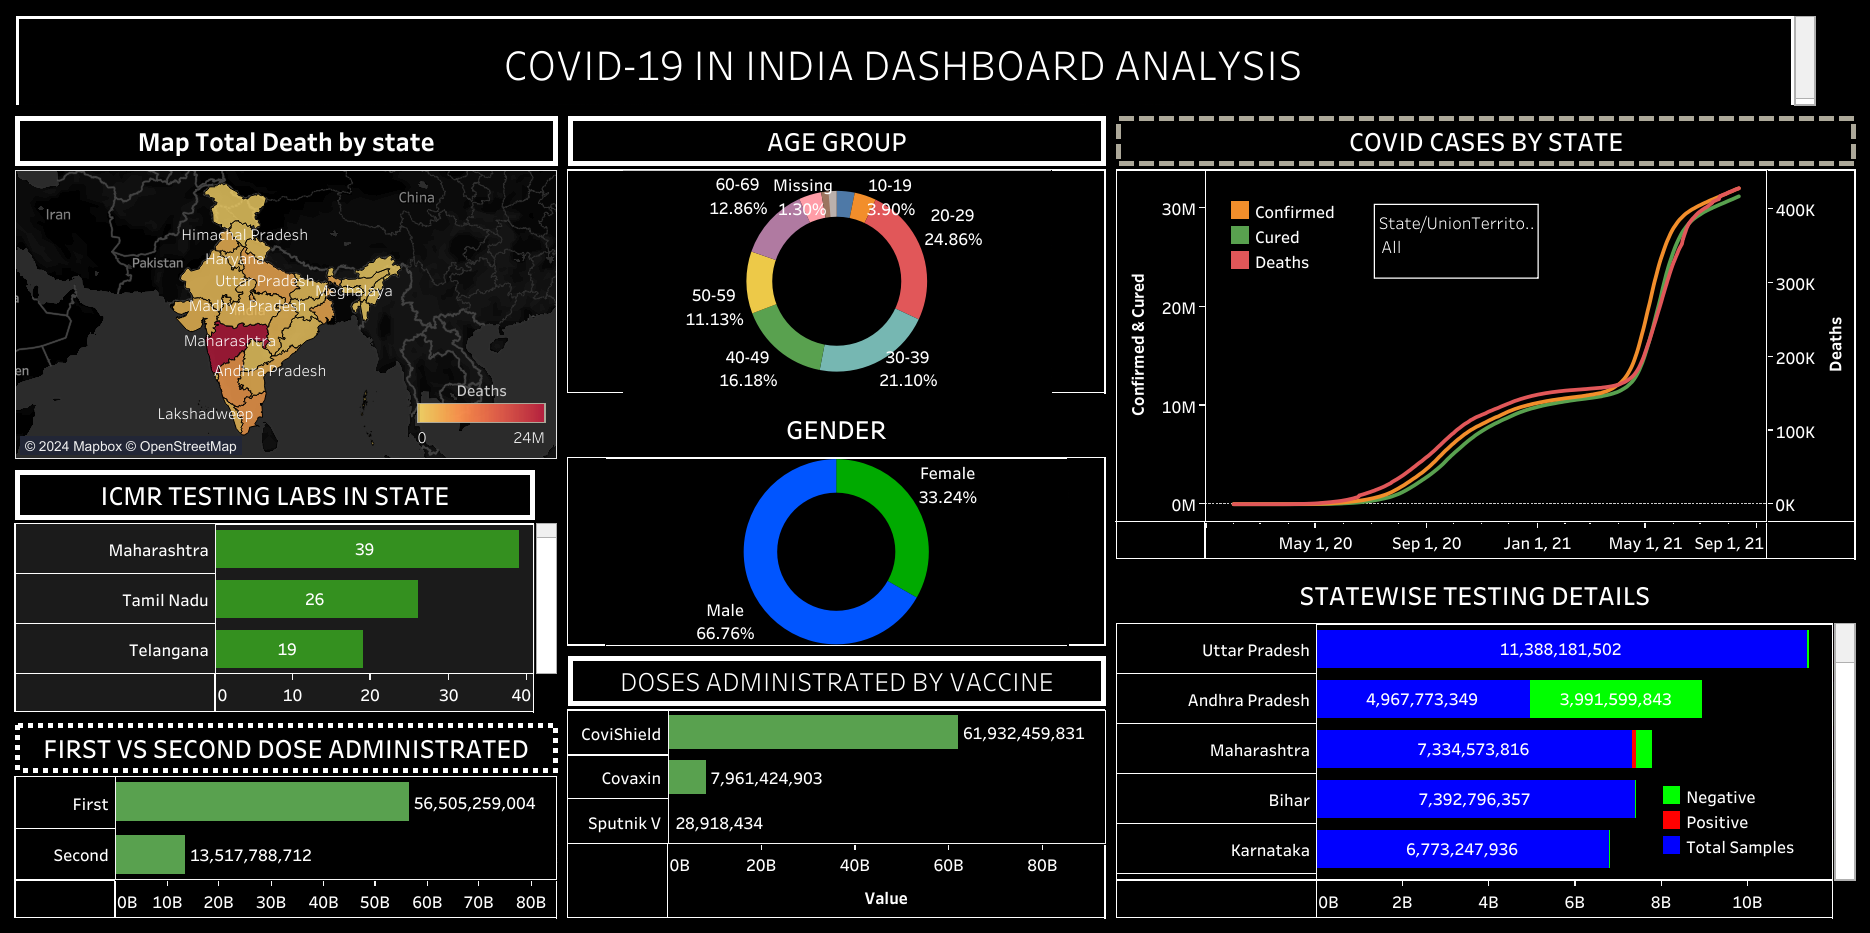

The page's visual inventory and layout, read from the dashboard file:
{"tool":"tableau","page":{"name":"Covid-19","canvas":[1000,1000],"units":"permille","ordinal":0},"visuals":[{"type":"worksheet","title":"Title","mark":"Automatic","box":[4.3,10.4,991.4,109.1]},{"type":"worksheet","title":"Map Total Death by state","mark":"Automatic","box":[4.3,119.4,296,378.4]},{"type":"worksheet","title":"AGE GROUP DETAILS","mark":"Pie","rows":["Calculation_854839530092593154","Calculation_854839530092785668"],"box":[300.2,119.4,293.6,307.4]},{"type":"worksheet","title":"Covid Cases by State","mark":"Automatic","rows":["Deaths"],"cols":["Date"],"box":[593.8,119.4,401.9,486.2]},{"type":"legend","title":"Covid Cases by State","param":"[federated.1iodu5l1r3tild12zan9o08z3den].[:Measure Names]","box":[656,211,74.2,89.9]},{"type":"filter","title":"Covid Cases by State","param":"[federated.1iodu5l1r3tild12zan9o08z3den].[none:State/UnionTerritory:nk]","box":[733.9,218.5,88.7,79.9]},{"type":"legend","title":"Map Total Death by state","param":"[federated.1iodu5l1r3tild12zan9o08z3den].[sum:Deaths:qk]","box":[220.3,400.8,74.2,84.9]},{"type":"worksheet","title":"GENDER","mark":"Pie","rows":["Calculation_854839530097082374","Calculation_854839530097098760"],"box":[300.2,426.8,293.6,271.1]},{"type":"worksheet","title":"icmr testing labs in state","mark":"Automatic","rows":["state"],"cols":["lab"],"box":[4.3,497.8,296,271.3]},{"type":"worksheet","title":"Statewise testing details","mark":"Automatic","rows":["State"],"box":[593.8,605.6,401.9,384]},{"type":"worksheet","title":"Doses admisted by vaccine","mark":"Automatic","box":[300.2,697.9,293.6,291.7]},{"type":"worksheet","title":"first vs second dose administered","mark":"Automatic","box":[4.3,769.1,296,220.5]},{"type":"legend","title":"Statewise testing details","param":"[federated.12qtvzl0voipsu11h4o5p0rka5t6].[:Measure Names]","box":[886.4,838,90.3,99.1]}]}

Visuals, with their boxes on the dashboard's canvas, which has no fixed pixel size, in thousandths of its width and height (x1, y1, x2, y2). These are canvas units, not pixel positions in the 1870x933 screenshot, which may show the page scaled, cropped or inside an application window:
"Title" worksheet: (x1=4, y1=10, x2=996, y2=120)
"Map Total Death by state" worksheet: (x1=4, y1=119, x2=300, y2=498)
"AGE GROUP DETAILS" worksheet (Pie marks): (x1=300, y1=119, x2=594, y2=427)
"Covid Cases by State" worksheet: (x1=594, y1=119, x2=996, y2=606)
"Covid Cases by State" legend: (x1=656, y1=211, x2=730, y2=301)
"Covid Cases by State" filter: (x1=734, y1=218, x2=823, y2=298)
"Map Total Death by state" legend: (x1=220, y1=401, x2=294, y2=486)
"GENDER" worksheet (Pie marks): (x1=300, y1=427, x2=594, y2=698)
"icmr testing labs in state" worksheet: (x1=4, y1=498, x2=300, y2=769)
"Statewise testing details" worksheet: (x1=594, y1=606, x2=996, y2=990)
"Doses admisted by vaccine" worksheet: (x1=300, y1=698, x2=594, y2=990)
"first vs second dose administered" worksheet: (x1=4, y1=769, x2=300, y2=990)
"Statewise testing details" legend: (x1=886, y1=838, x2=977, y2=937)
